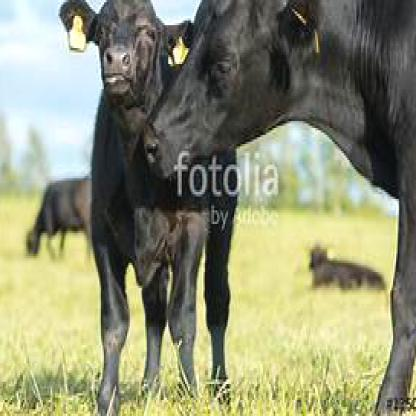cow: (142, 0, 414, 414), (55, 0, 237, 414)
